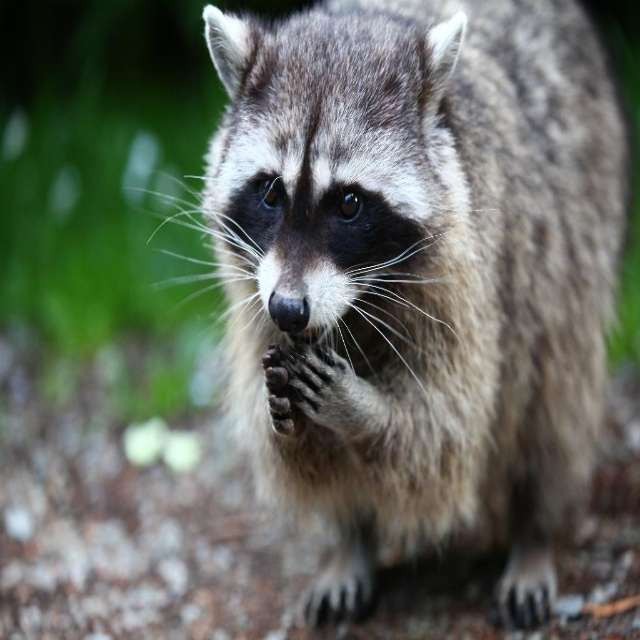Raccoon: (123, 0, 630, 632)
